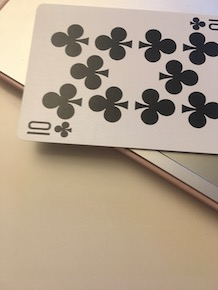TenOfClubs: (17, 1, 218, 163)
